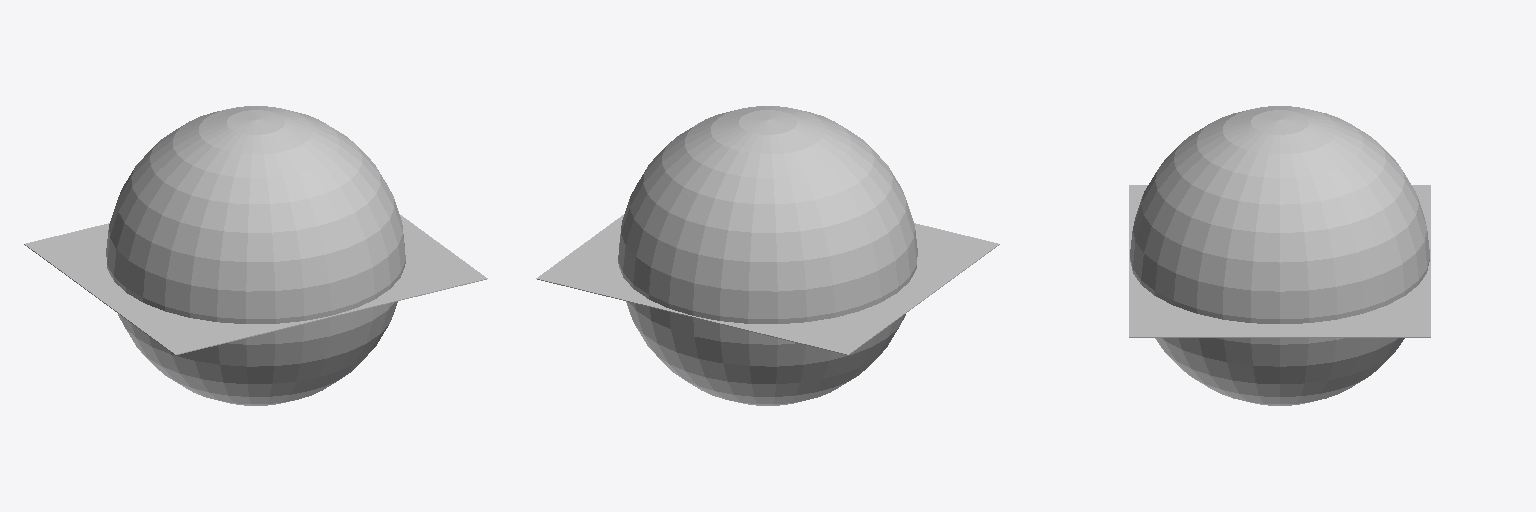
The model's file is skydome.obj.
The picture shows the model from 3 angles: view 1: azimuth 30°, elevation 25°; view 2: azimuth 150°, elevation 25°; view 3: azimuth 270°, elevation 25°; orthographic projection.
Parts seen in each view (by area): view 1: 球, 立方体; view 2: 球, 立方体; view 3: 球, 立方体.
Part boxes in pixels (x1,y1,x2,y2): 球: (106, 106, 405, 405); 立方体: (24, 215, 487, 354); 球: (618, 106, 917, 405); 立方体: (536, 215, 999, 354); 球: (1130, 106, 1429, 405); 立方体: (1129, 185, 1430, 337).
Bounding box in the file's own units: 2495 × 2079 × 2095.